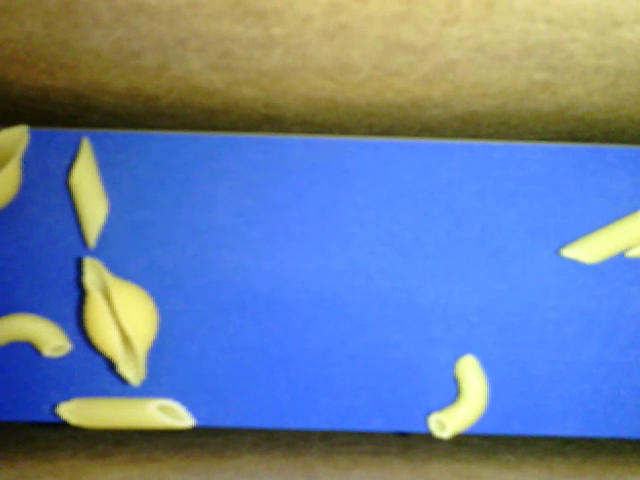elbow: (426, 354, 488, 441), (1, 312, 73, 358)
penne: (68, 135, 109, 252), (557, 209, 639, 265), (55, 397, 198, 429)
shell: (80, 256, 160, 386), (1, 123, 31, 209)
